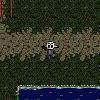Interaction: (9, 76, 100, 100), (0, 0, 18, 23)
Jason: (40, 39, 60, 60)
Slow: (21, 90, 100, 100)
